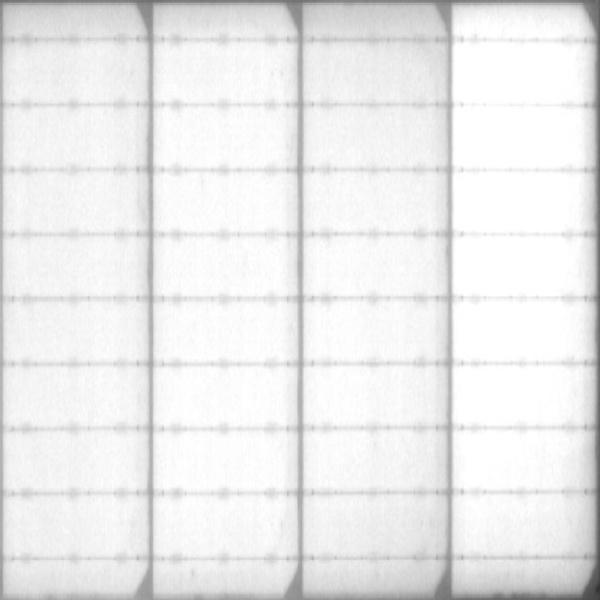hot_spot: (455, 48, 582, 101), (461, 113, 587, 165), (457, 178, 584, 228), (462, 243, 585, 293), (468, 305, 581, 353), (468, 434, 566, 489), (476, 372, 567, 422)
